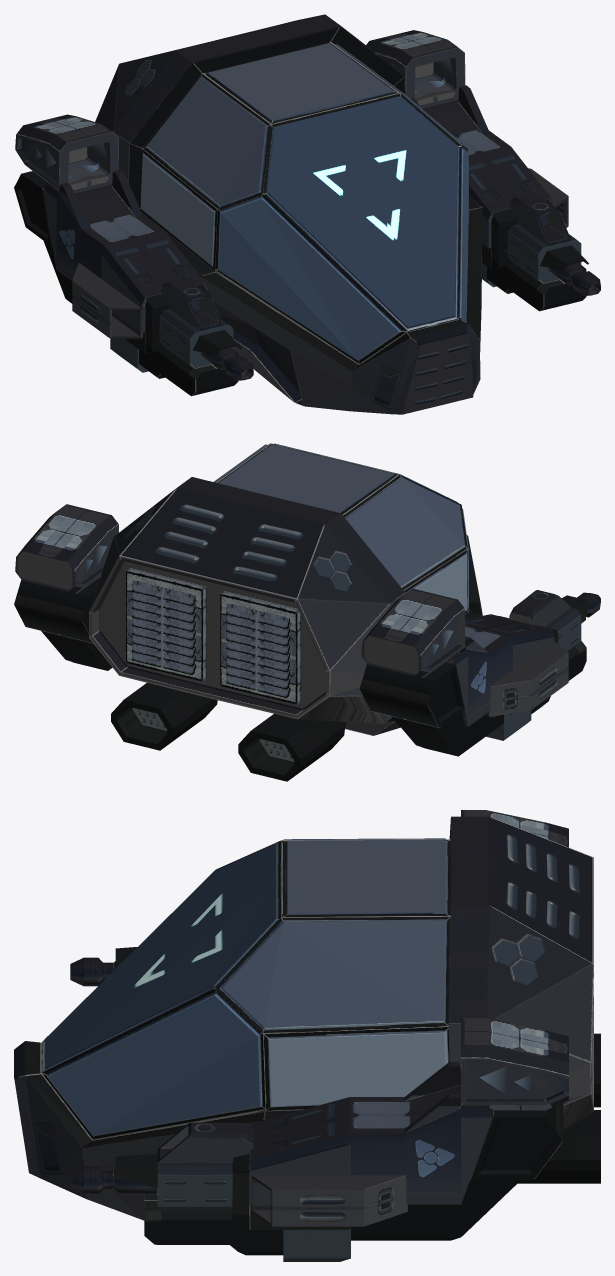
File: drone_11c.FBX
The picture shows the model from 3 angles, top to bottom: view 1: azimuth 30°, elevation 25°; view 2: azimuth 150°, elevation 25°; view 3: azimuth 270°, elevation 25°; orthographic projection. The views are drawn at different scales.
Parts seen in each view (by area): view 1: Object008; view 2: Object008; view 3: Object008.
Part boxes in pixels (x1,y1,x2,y2): Object008: [14, 14, 600, 414]; Object008: [14, 443, 600, 781]; Object008: [14, 810, 600, 1261].
Size of the model in its own units: 65.24 by 33.95 by 58.74.
1 material, 1 textured.
